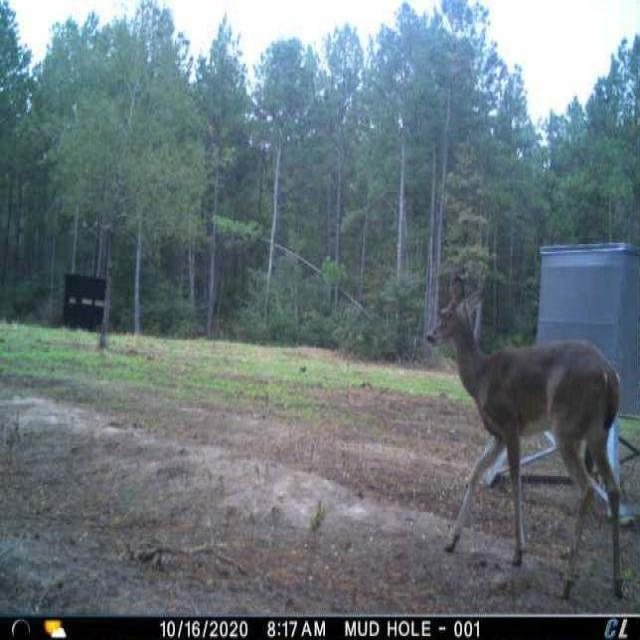deer: (427, 273, 632, 606)
